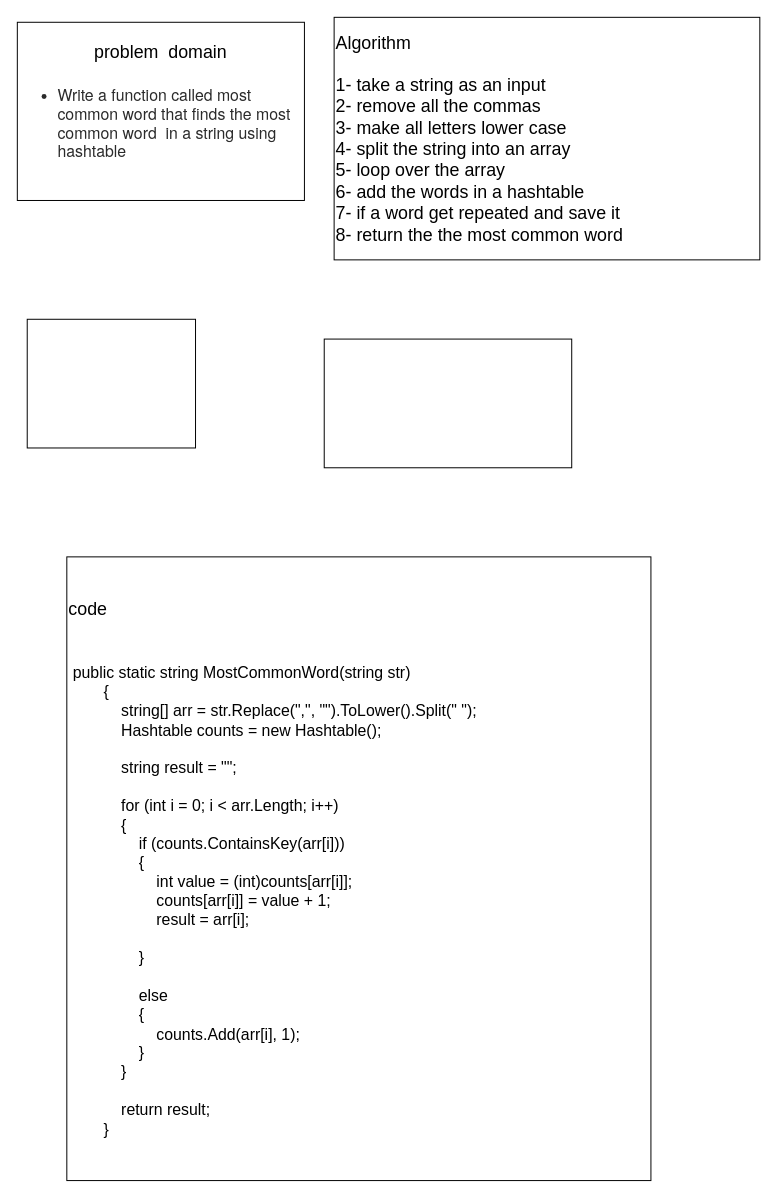
Some shapes in this 777 by 1198 pixel diagram are drawn without their labels. The centre of each missing label's shape, as x and y in pixels:
input: string output: string: [111,383]
space complexity: O(n) time complexity: O(n): [447,403]
